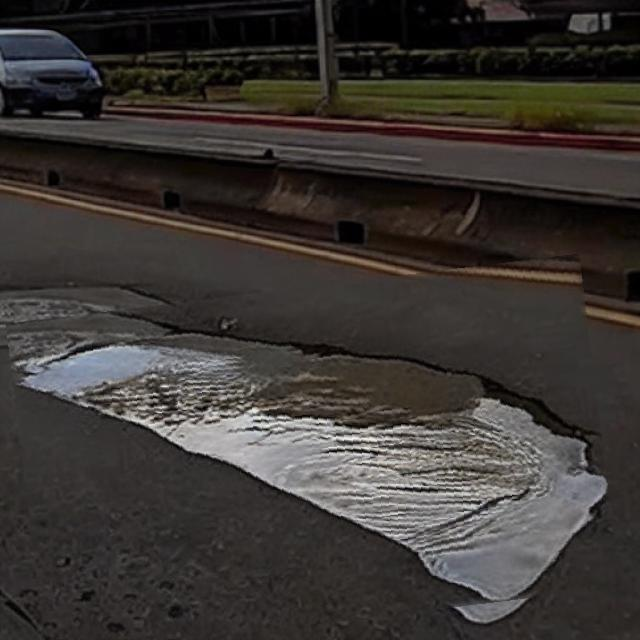puddle: (17, 272, 612, 640)
